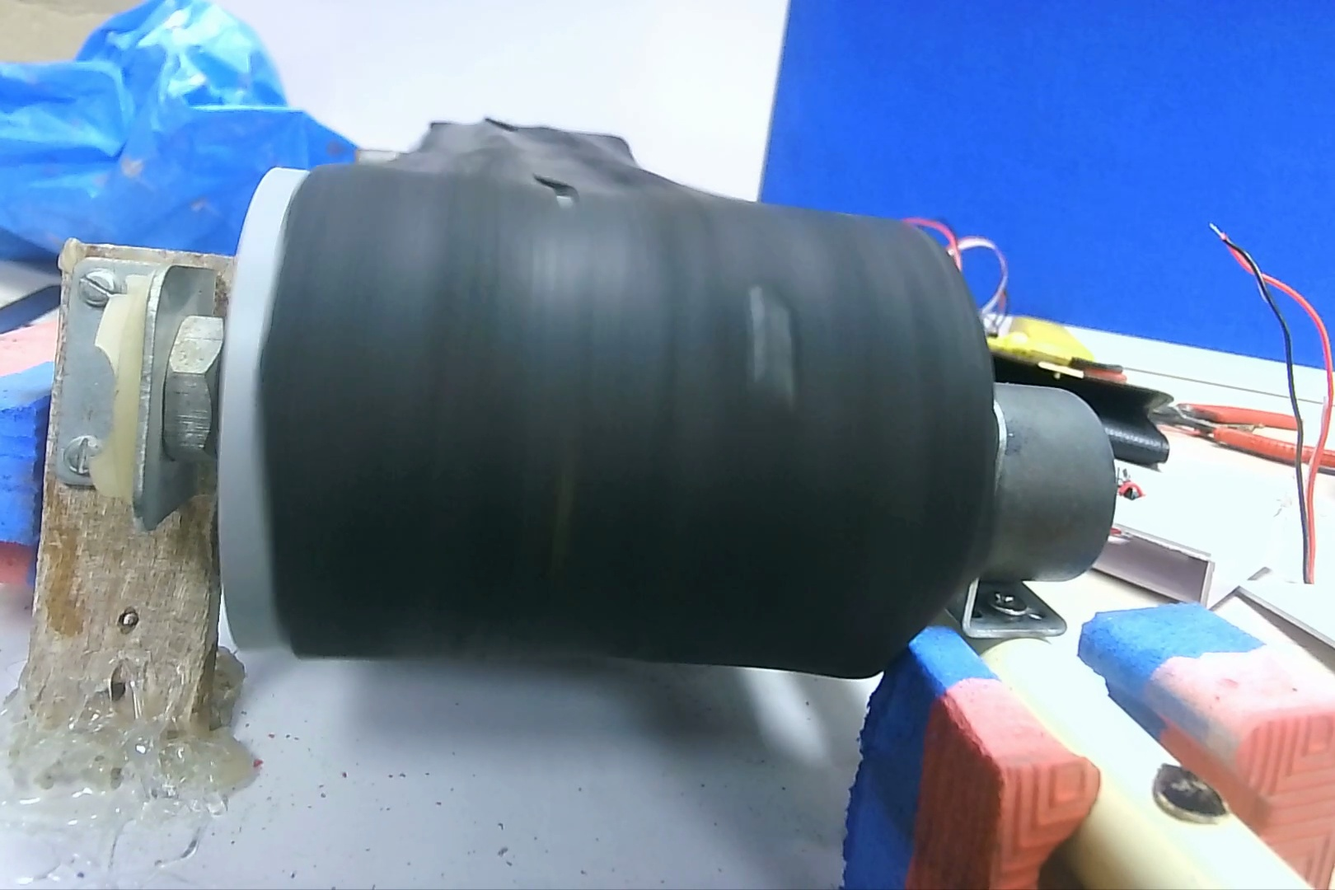hole: (734, 280, 807, 400)
